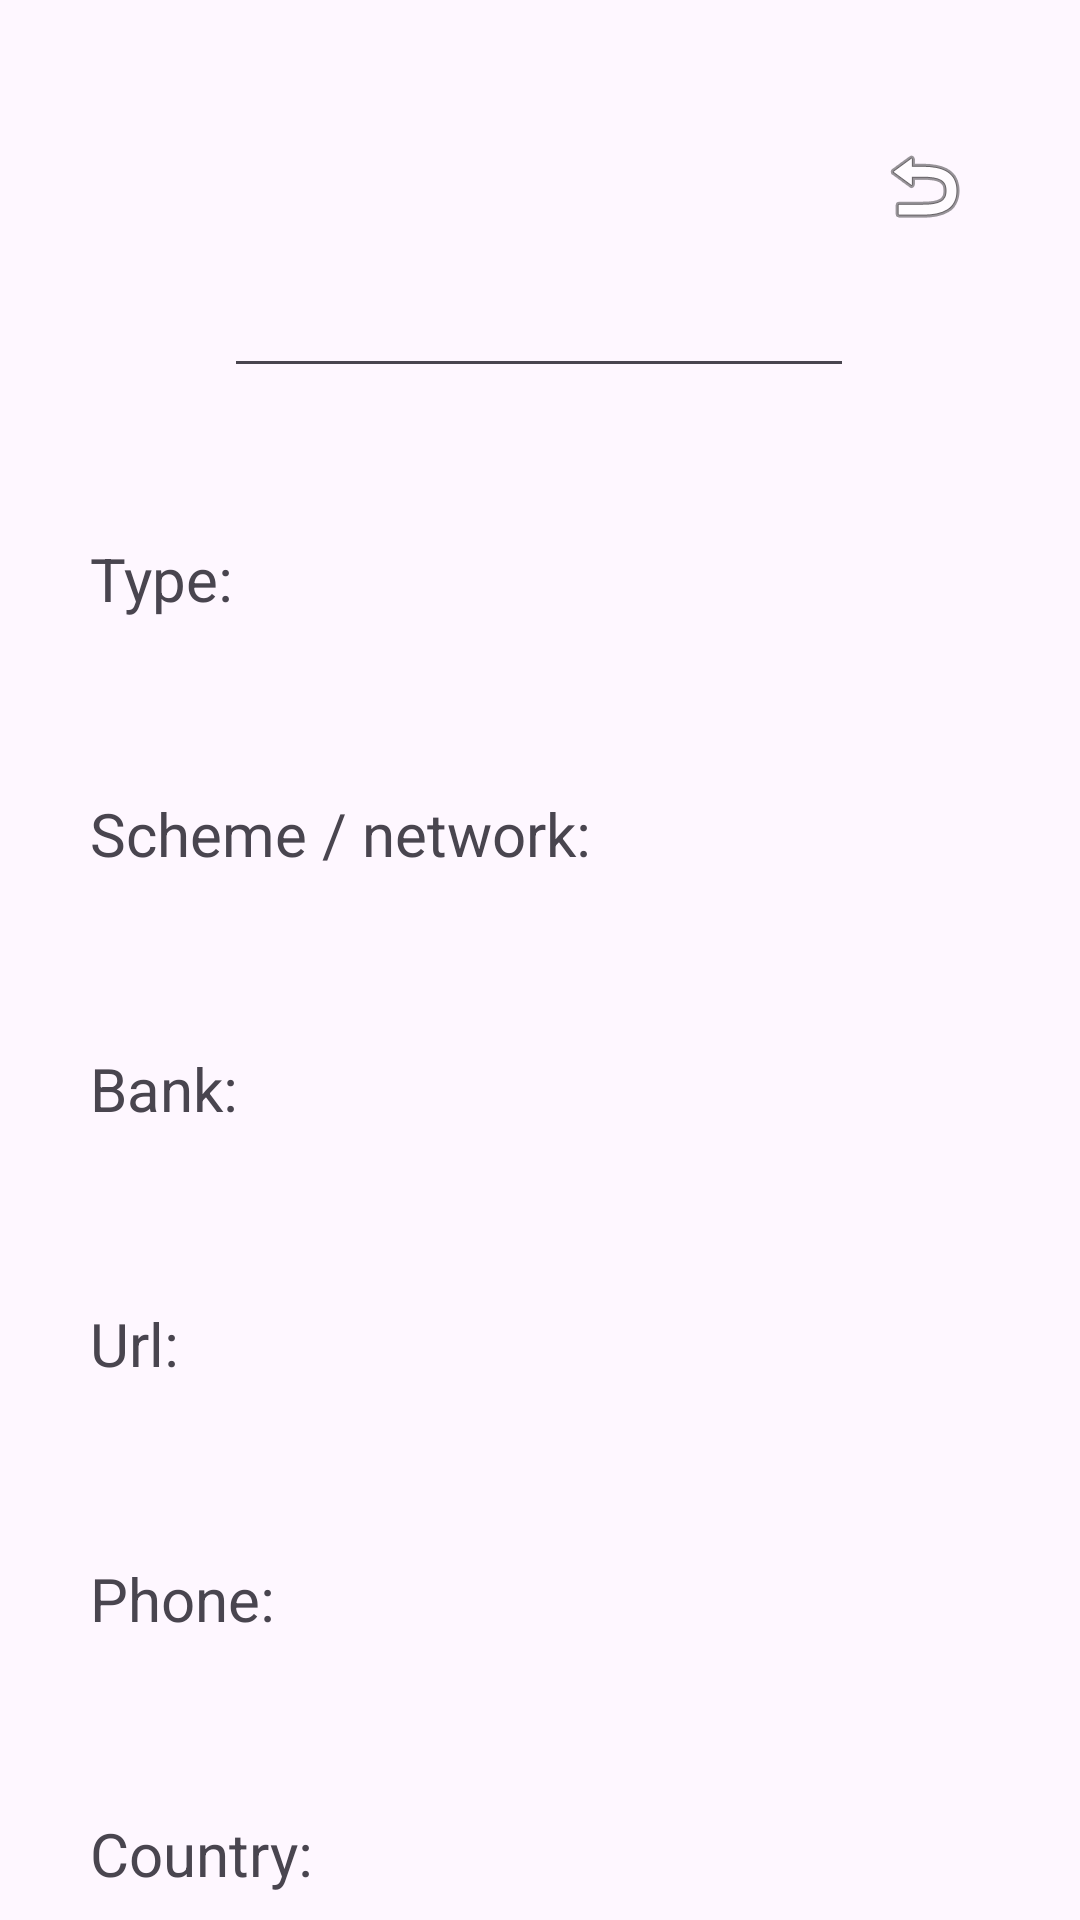

Icon click points for this 1080px x 1920px phone screenshot, format (x=x, y=y):
revert: (x=925, y=186)
